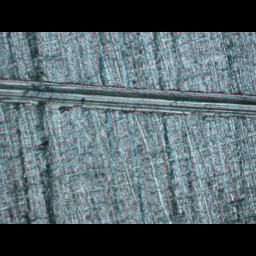d: (0, 74, 256, 121)
